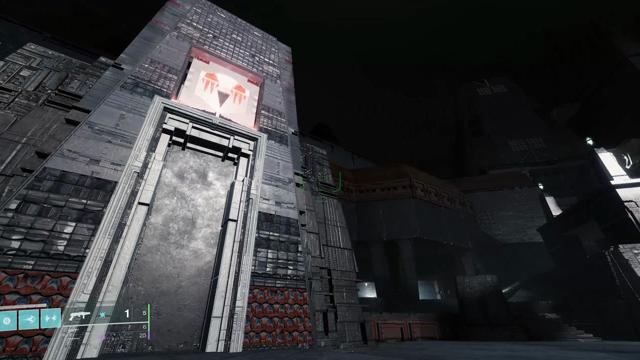give: (194, 71, 249, 113)
